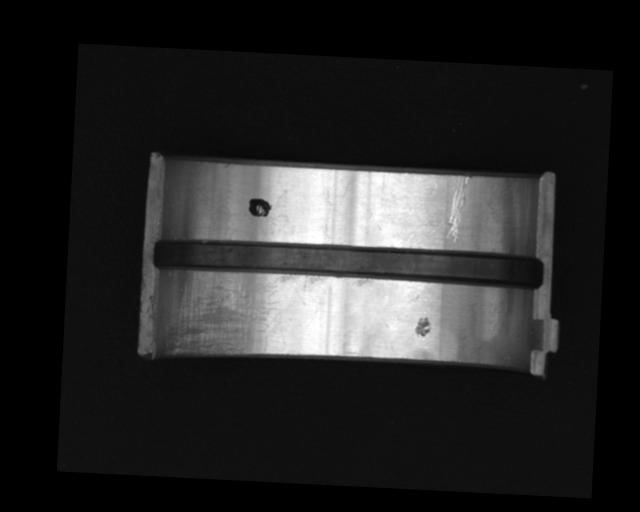blot: (246, 197, 274, 218)
bruise: (412, 314, 434, 338)
gap: (149, 234, 546, 292)
nick: (443, 172, 471, 243)
scratch: (160, 266, 295, 364)
